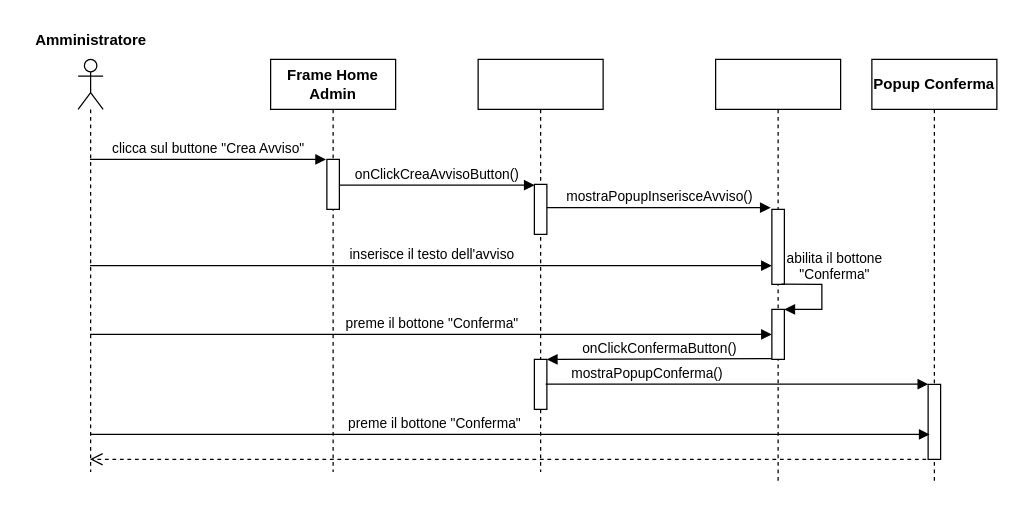
This 1019x506 diagram has some shape labels left out. The shapes that lost their labels are listed below. From the top down, each one's centre as x and y in pixels, then its label:
At (x=540, y=265): "Controller".
At (x=777, y=271): "Popup Inserisce Avviso".
